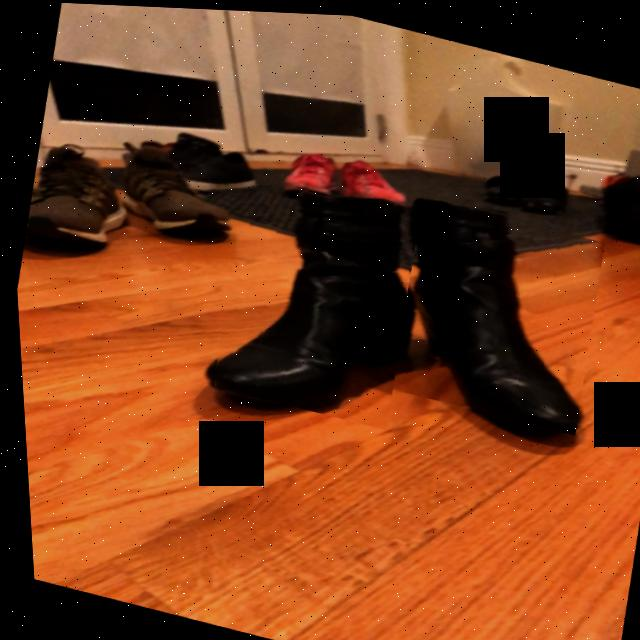shoe: (407, 195, 572, 427), (209, 202, 400, 402)
